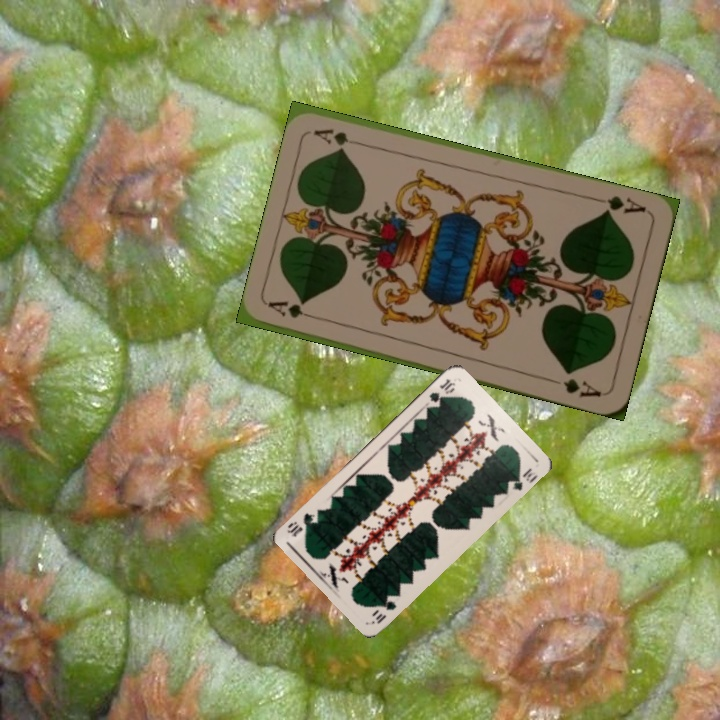G10: (425, 375, 458, 405), (369, 595, 399, 627)
GA: (265, 297, 324, 323), (591, 191, 649, 217)
